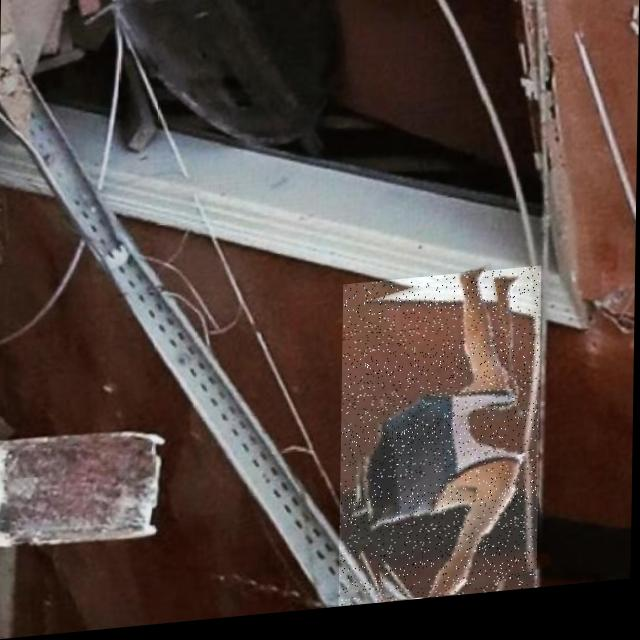Person in Rubble: (340, 277, 541, 614)
